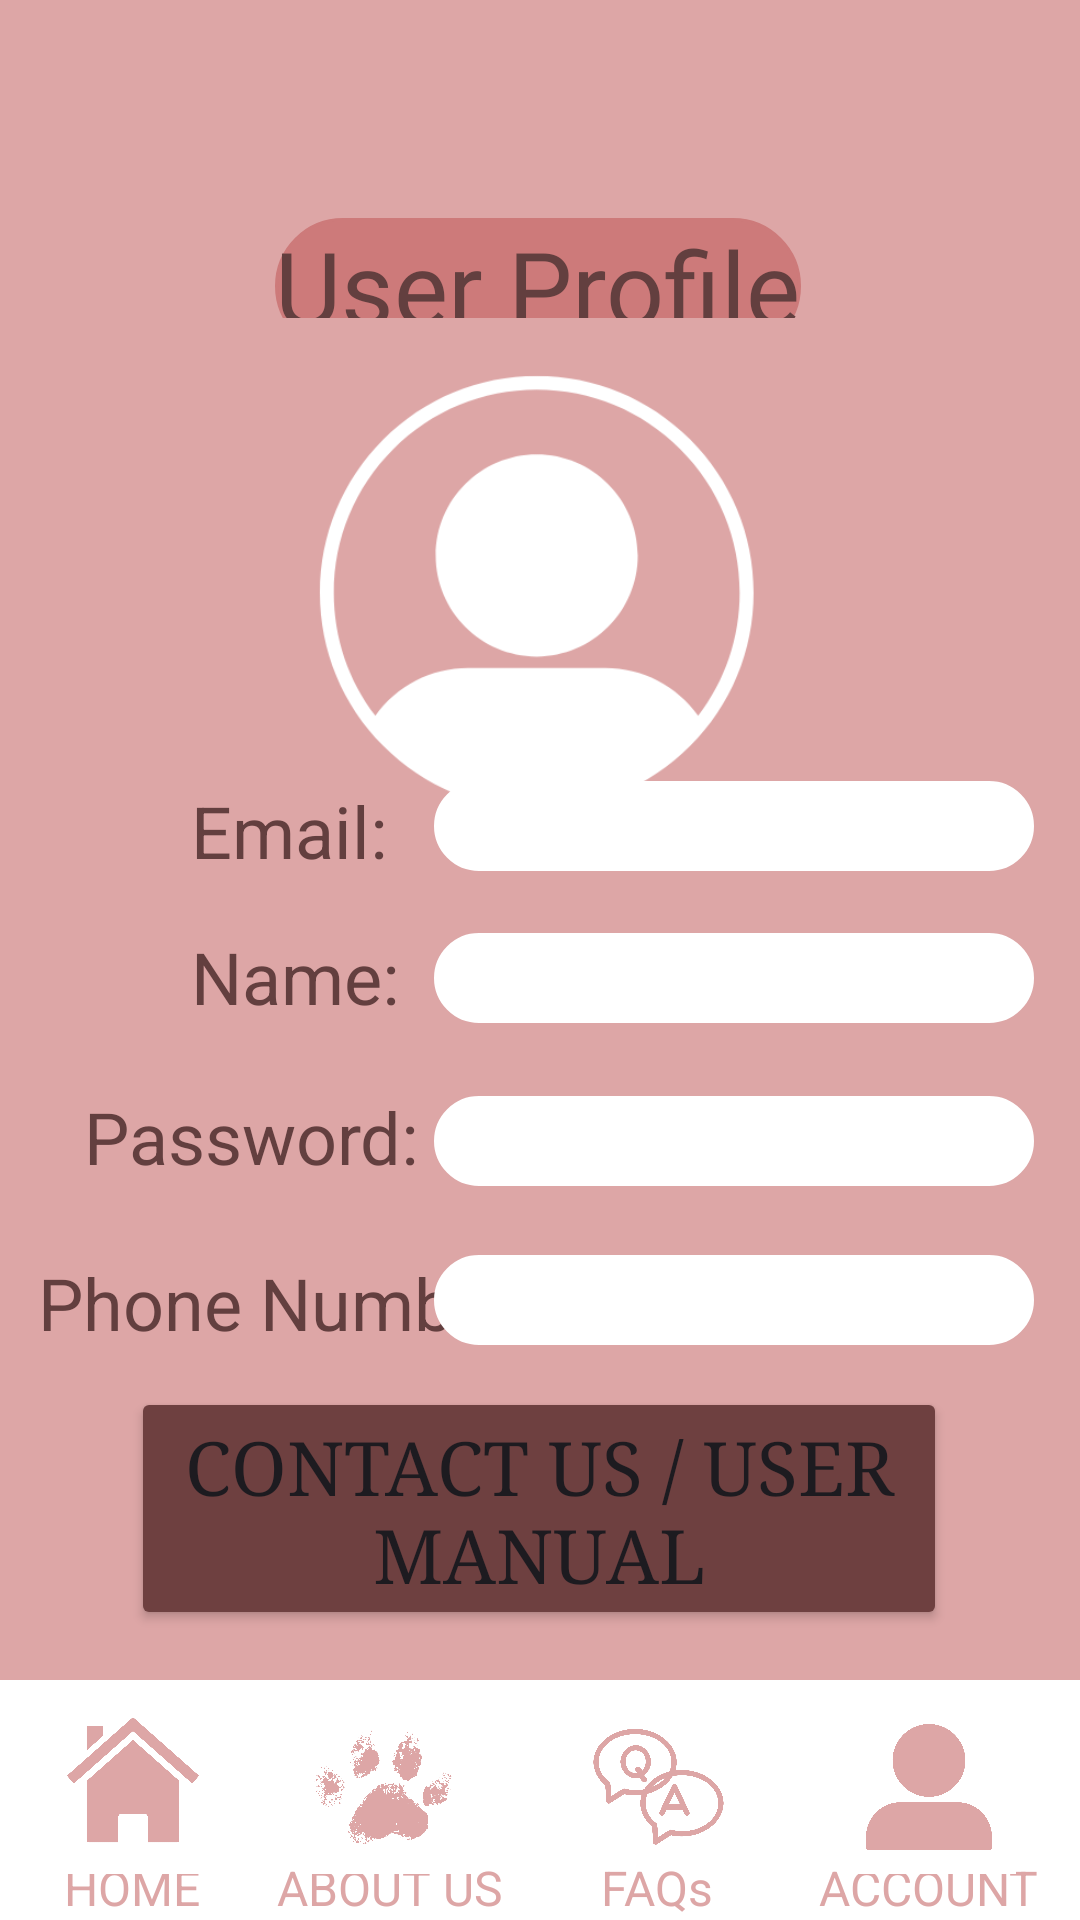

Locate icon controls on the screen. Image size 1080×1920, boxes as (x1, y1, x2, y2).
paw: (316, 1731, 451, 1844)
